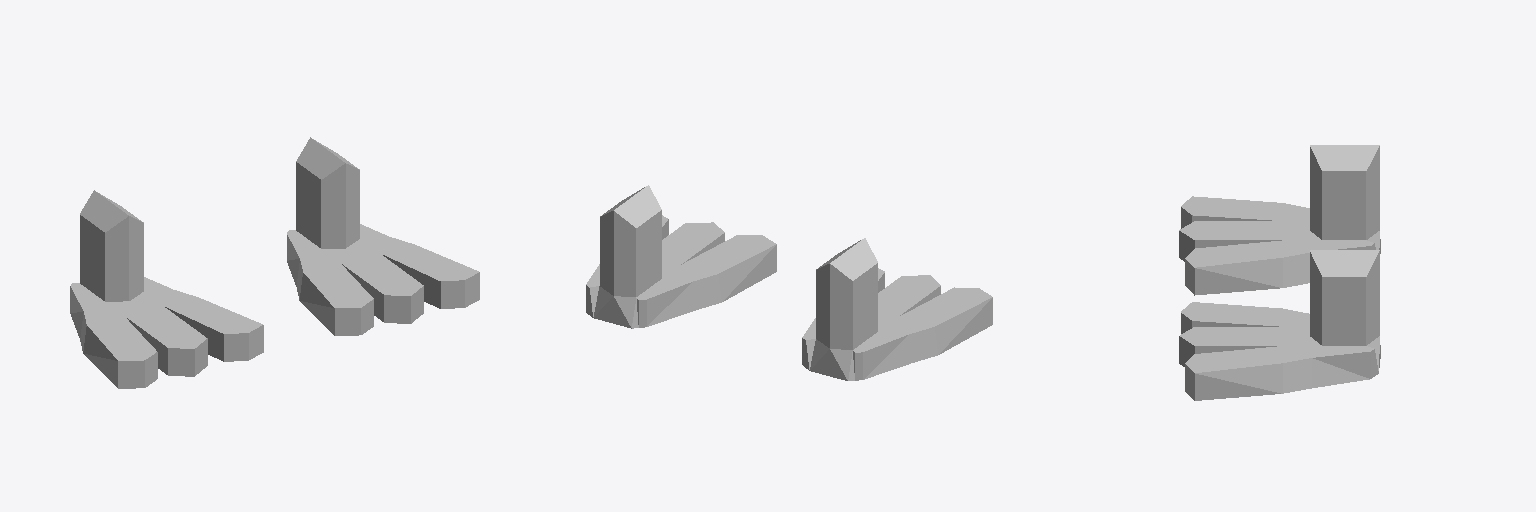
File: patas.obj
3 renders of one model, left to right at view 1: azimuth 30°, elevation 25°; view 2: azimuth 150°, elevation 25°; view 3: azimuth 270°, elevation 25°, orthographic.
Visible parts, largest first — view 1: Cube.003, Cube.002; view 2: Cube.003, Cube.002; view 3: Cube.002, Cube.003.
Boxes of the visible parts, <box> form: Cube.003: <box>70,190,263,388</box>; Cube.002: <box>287,137,479,335</box>; Cube.003: <box>802,238,992,380</box>; Cube.002: <box>586,185,776,328</box>; Cube.002: <box>1179,250,1380,400</box>; Cube.003: <box>1179,145,1380,295</box>.
Bounding box in the file's own units: 0.5221 × 0.1557 × 0.2517.